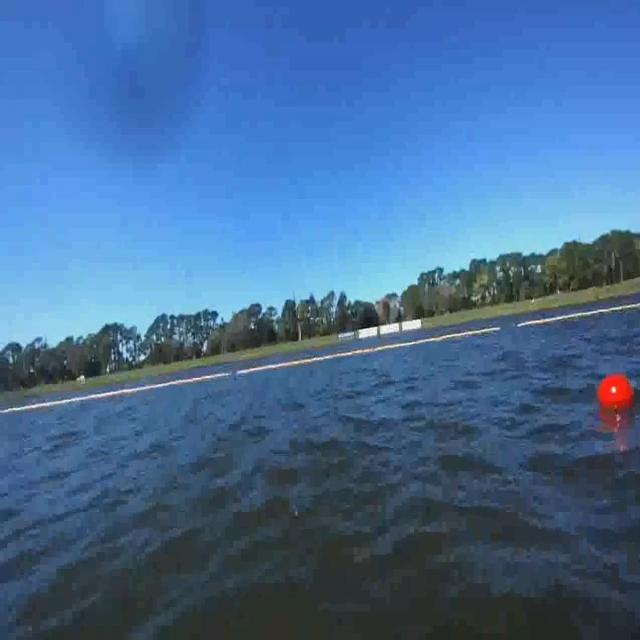red-buoy: (597, 375, 634, 411)
